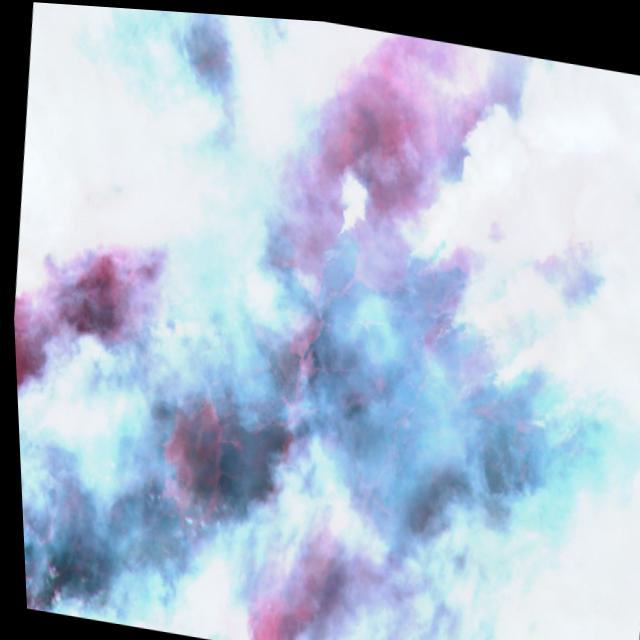fire: (5, 142, 640, 640)
